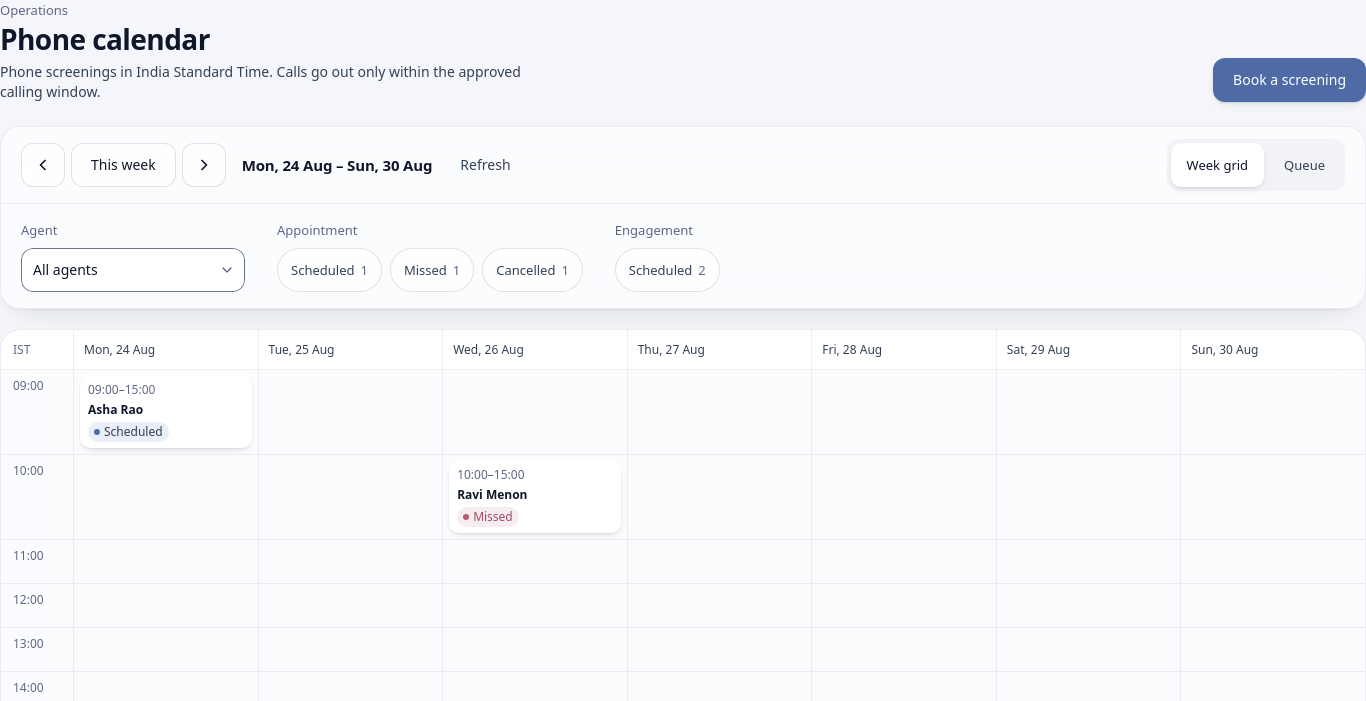
Test: axe — no WCAG A/AA violations › with the booking form open
Click the button "Book a screening" at [1290, 80], box left=1213, top=58, right=1365, bottom=102
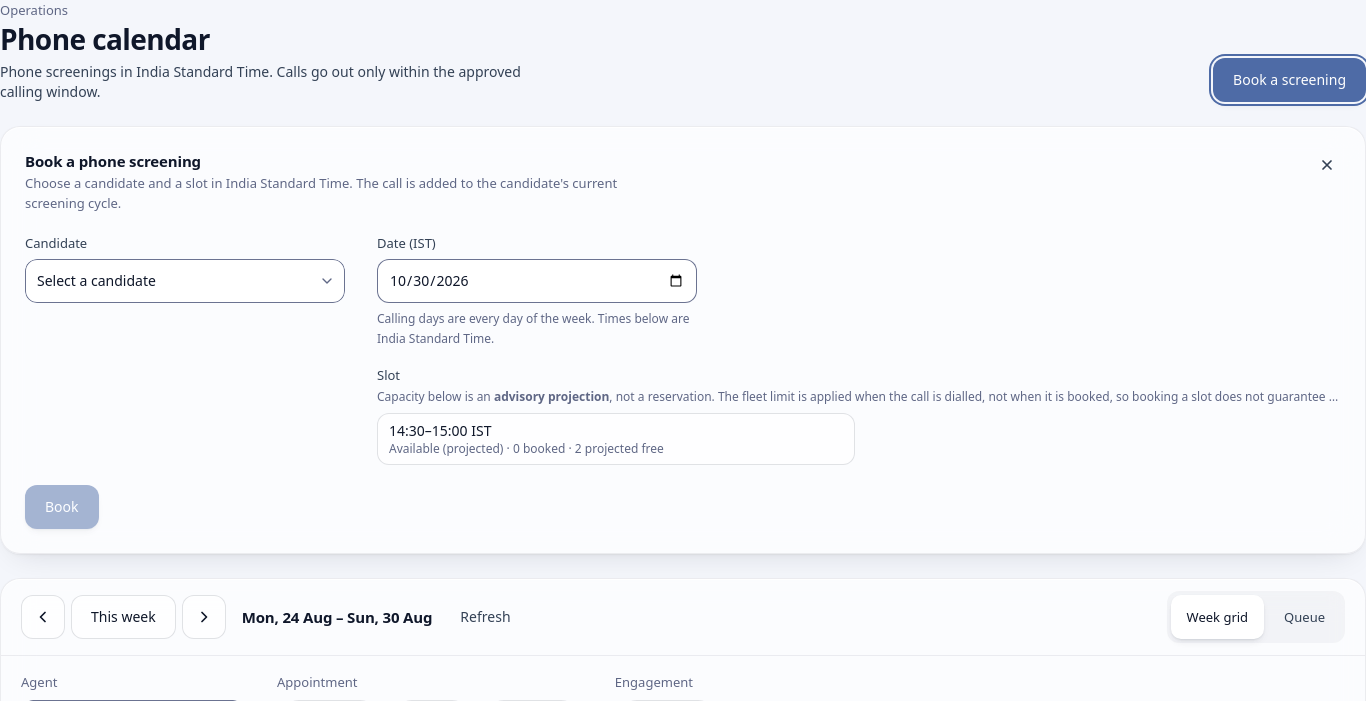
Expected: the dropdown labelled "Candidate" is shown, left=25, top=259, right=345, bottom=303
